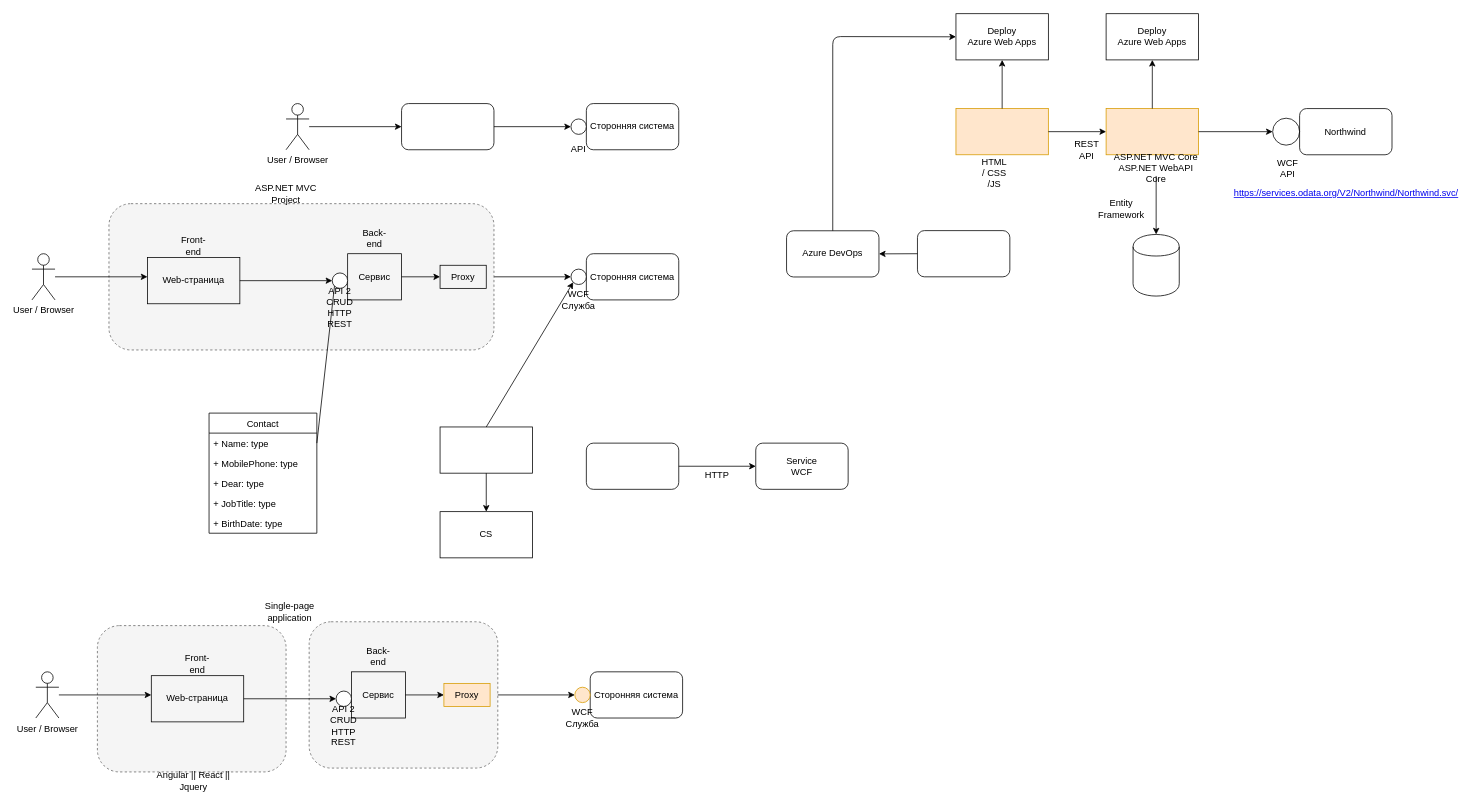
Image size: 1471x805. Some labels were removed from this diagram. Each missing label, with the centre of its shape:
"Back" belongs at pixel 1152 131.
"Client WCF" belongs at pixel 632 465.
"DB" belongs at pixel 1155 265.
"Front" belongs at pixel 1001 131.
"Github" belongs at pixel 963 253.
"VS" belongs at pixel 485 449.
"Веб-приложение" belongs at pixel 447 126.
